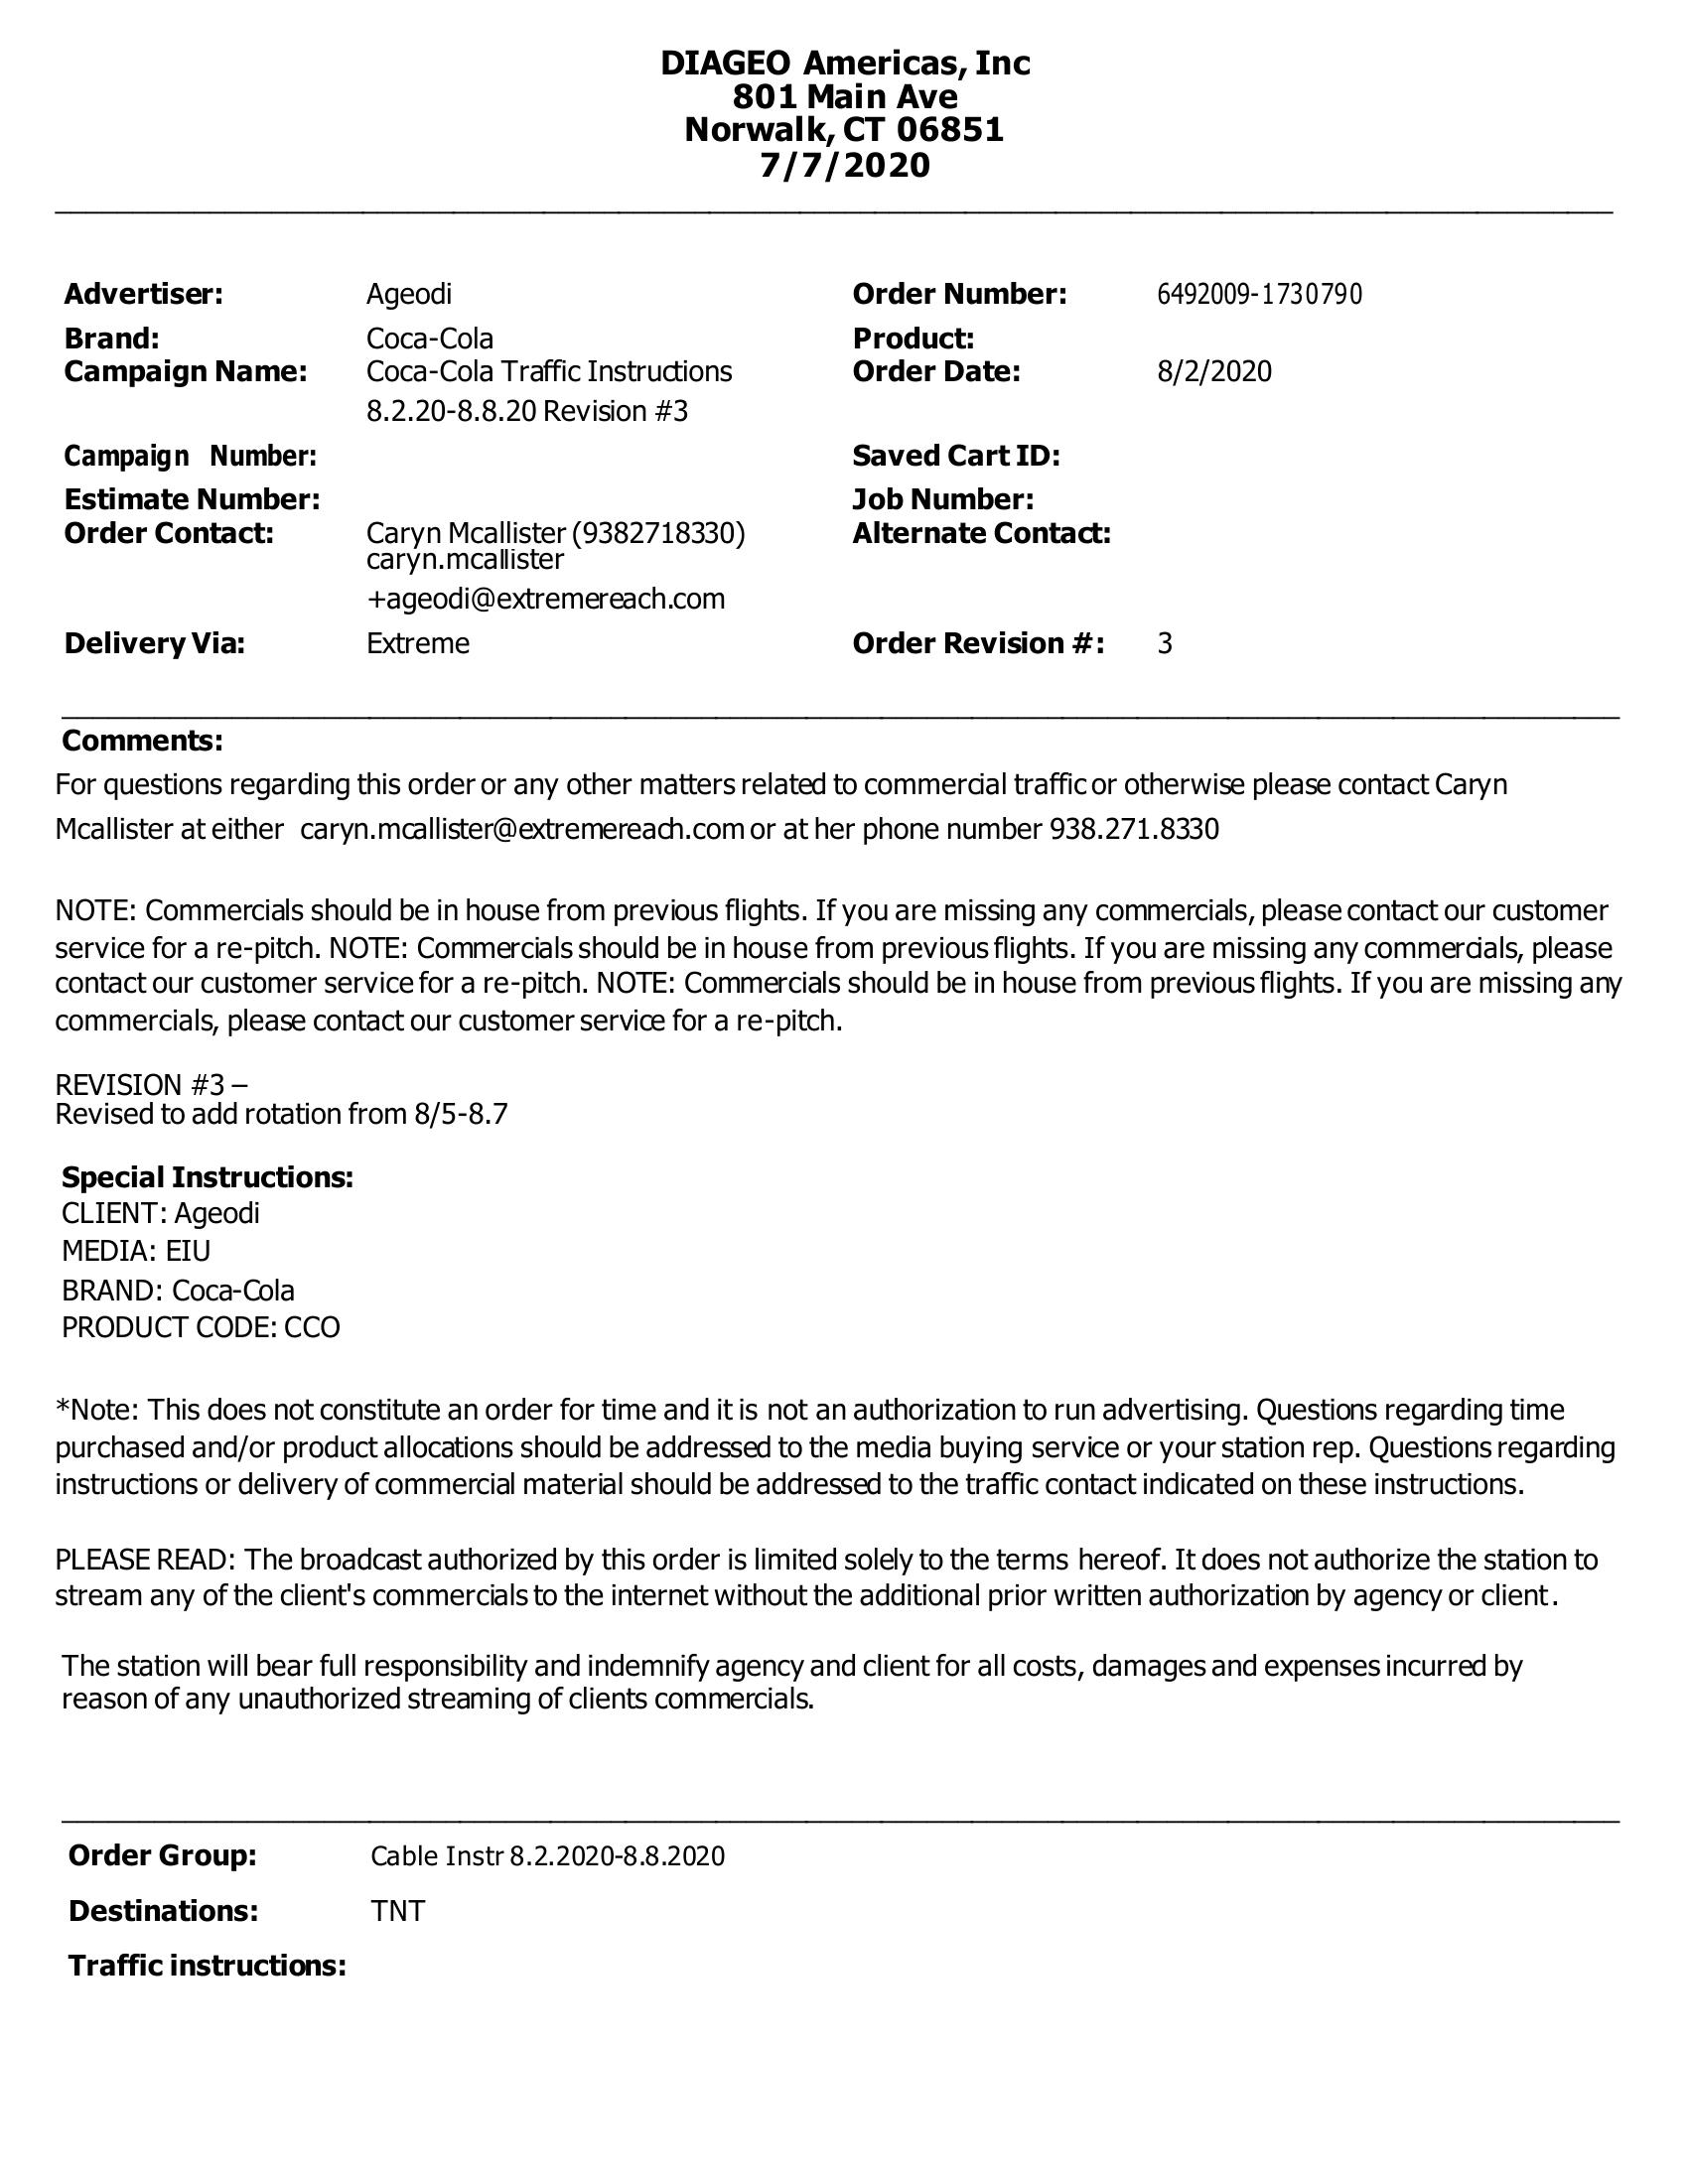table: (43, 253, 1394, 684), (51, 1831, 768, 1998)
